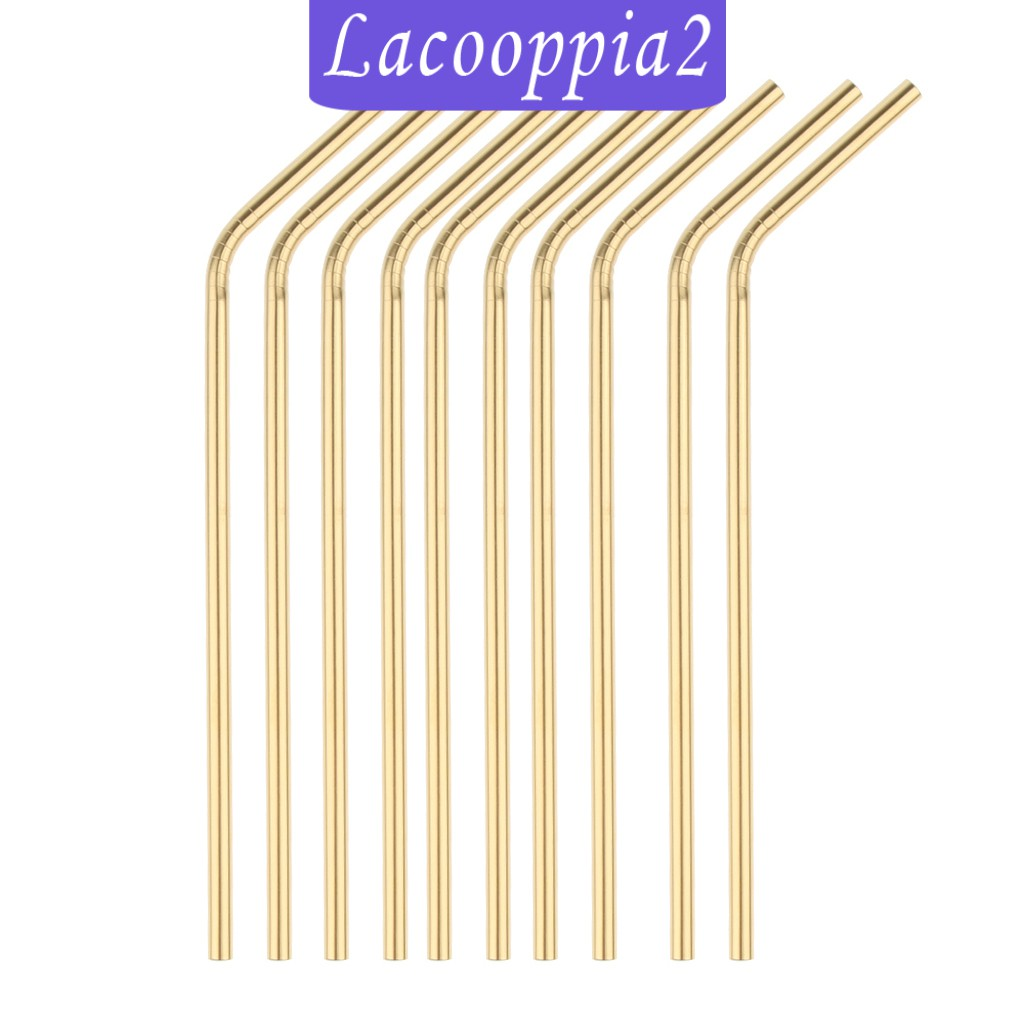Drinking Straw: (721, 76, 927, 960)
